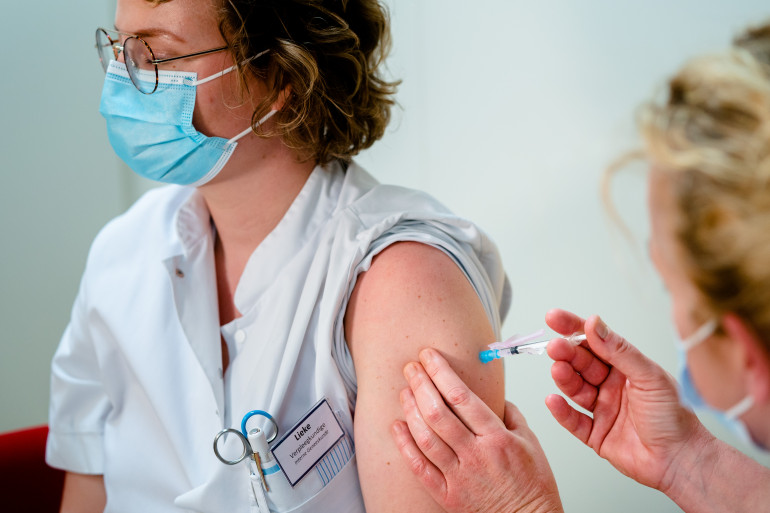with_mask: (87, 1, 306, 193), (642, 154, 770, 475)
